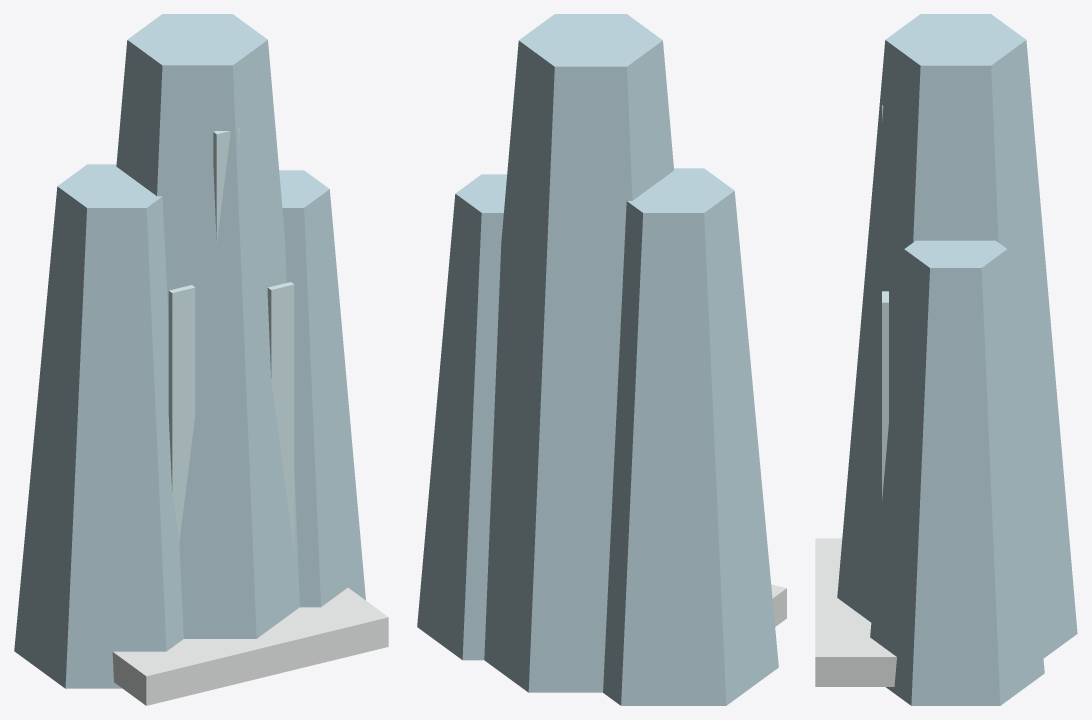
File: blue_icefall_near-Cdin8gIc.glb
The picture shows the model from 3 angles, left to right: view 1: azimuth 30°, elevation 25°; view 2: azimuth 150°, elevation 25°; view 3: azimuth 270°, elevation 25°; orthographic projection. The views are drawn at different scales.
Parts seen in each view (by area): view 1: blue_icefall_near; view 2: blue_icefall_near; view 3: blue_icefall_near.
Boxes of the visible parts, left/top/right/bottom form: blue_icefall_near: left=14, top=14, right=388, bottom=705; blue_icefall_near: left=417, top=14, right=786, bottom=705; blue_icefall_near: left=815, top=14, right=1077, bottom=705.
Bounding box in the file's own units: 15.1 × 28 × 11.2.
